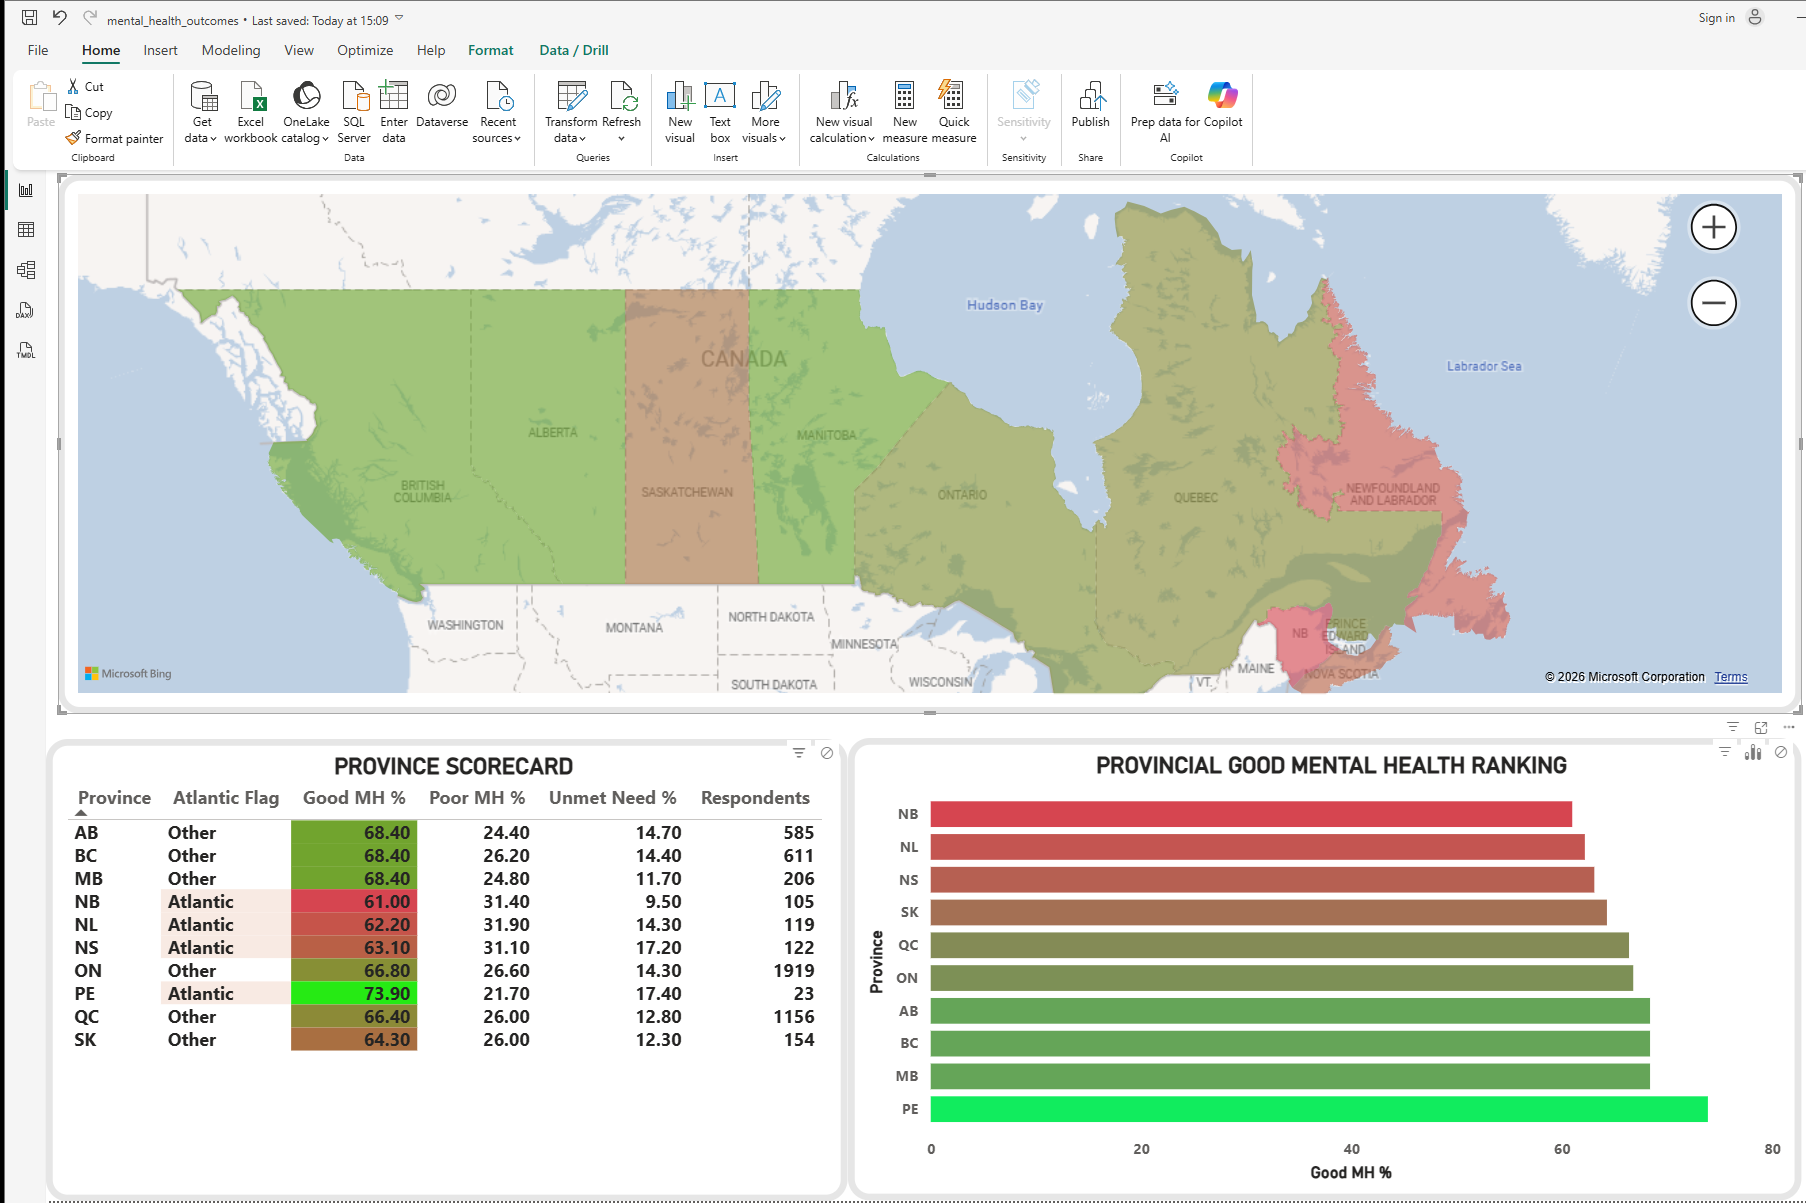

This screenshot's page, from the dashboard's own definition file:
{"tool":"powerbi","page":{"name":"PROVINCIAL ANALYSIS","canvas":[1300,760],"ordinal":1},"visuals":[{"type":"filledMap","fields":{"Category":["cchs_data.province"]},"box":[9,3,1286,398.1],"z":0},{"type":"clusteredBarChart","title":"PROVINCIAL GOOD MENTAL HEALTH RANKING","fields":{"Category":["cchs_data.province"],"Y":["cchs_data.Good MH %"]},"box":[591.6,419,703.4,341.2],"z":1000},{"type":"tableEx","title":"PROVINCE SCORECARD","fields":{"Values":["cchs_data.province","cchs_data.Atlantic Flag","cchs_data.Good MH %","cchs_data.Poor MH %","cchs_data.Unmet Need %","ConditionPrevalence.Respondents"]},"box":[0,419.5,591.4,340.9],"z":2000}]}

Visuals, with their boxes on the page's 1300x760 design canvas (x1, y1, x2, y2). These are canvas units, not pixel positions in the 1806x1203 screenshot, which may show the page scaled, cropped or inside an application window:
filledMap - cchs_data.province: bbox=(9, 3, 1295, 401)
"PROVINCIAL GOOD MENTAL HEALTH RANKING" clusteredBarChart: bbox=(592, 419, 1295, 760)
"PROVINCE SCORECARD" tableEx: bbox=(0, 420, 591, 760)
